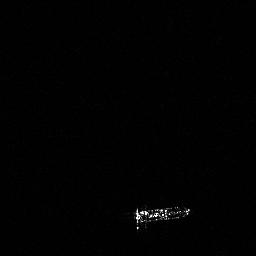ship: (131, 201, 192, 234)
